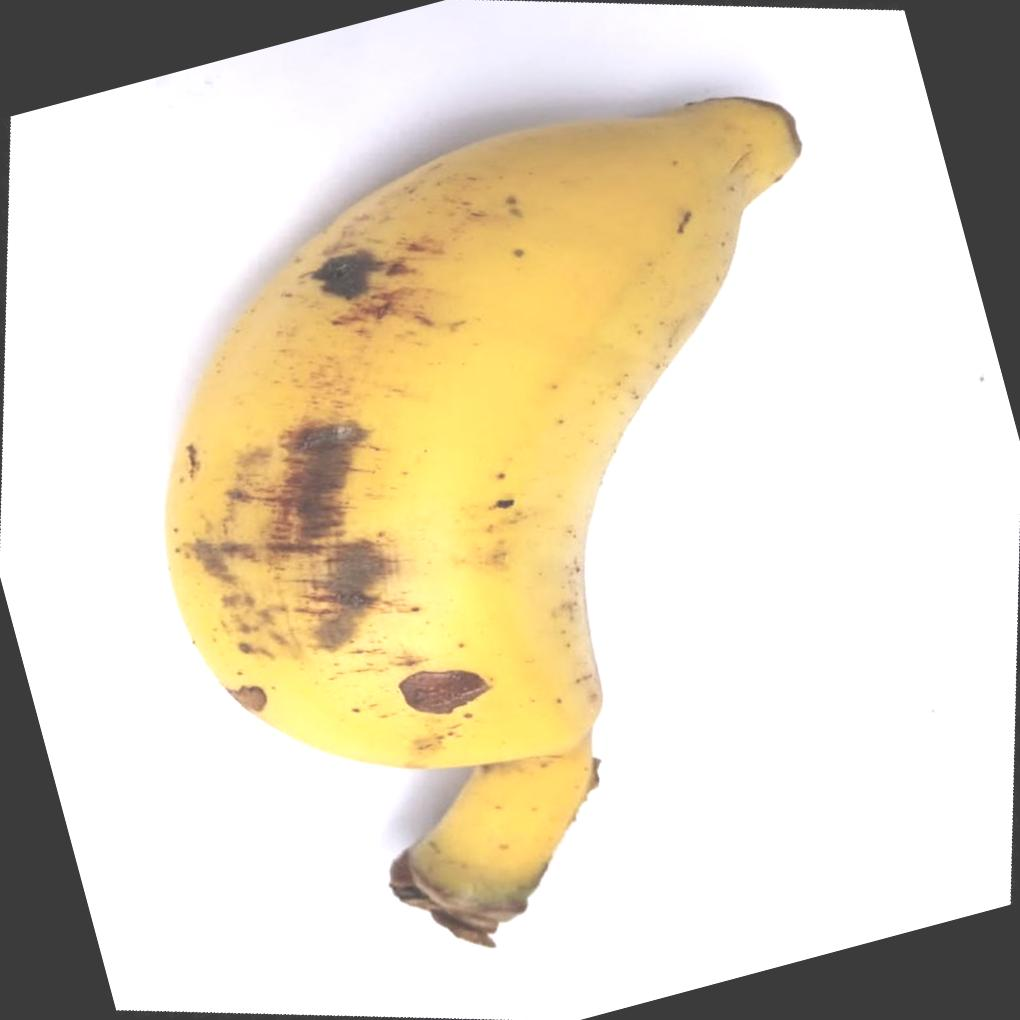Banana Ripe: (60, 53, 1013, 1020)
